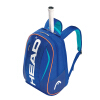luggage: (22, 6, 84, 97)
